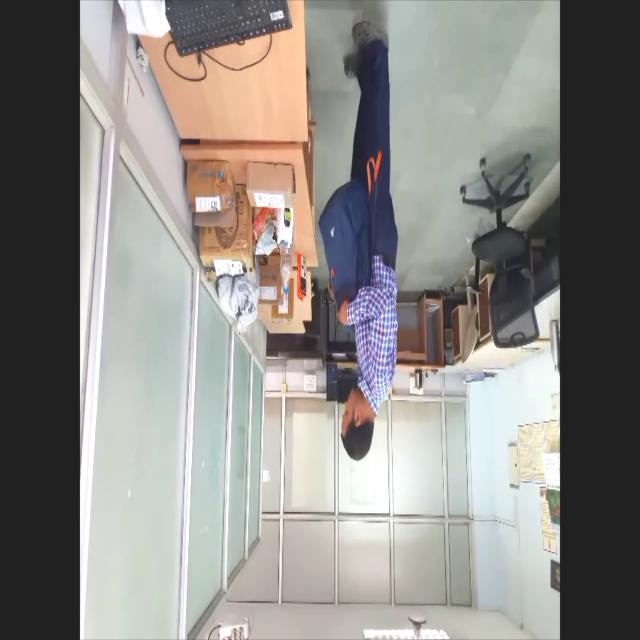shoplifting: (314, 0, 406, 478)
